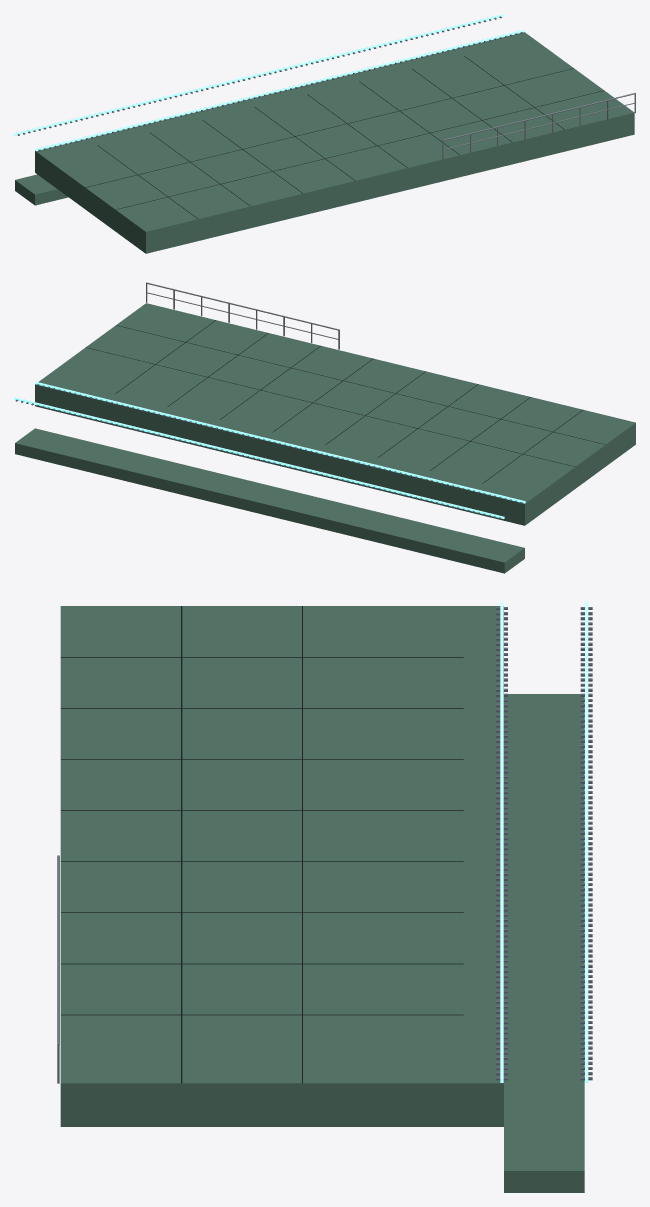
The picture shows the model from 3 angles, top to bottom: view 1: azimuth 30°, elevation 25°; view 2: azimuth 150°, elevation 25°; view 3: azimuth 270°, elevation 25°; orthographic projection. The views are drawn at different scales.
Parts seen in each view (by area): view 1: p0_m3; view 2: p0_m3; view 3: p0_m3.
Part boxes in pixels (x1,y1,x2,y2): p0_m3: (14,14,635,253); p0_m3: (14,282,635,573); p0_m3: (57,602,592,1192).
Bounding box in the file's own units: 28.03 × 4.11 × 13.29.
